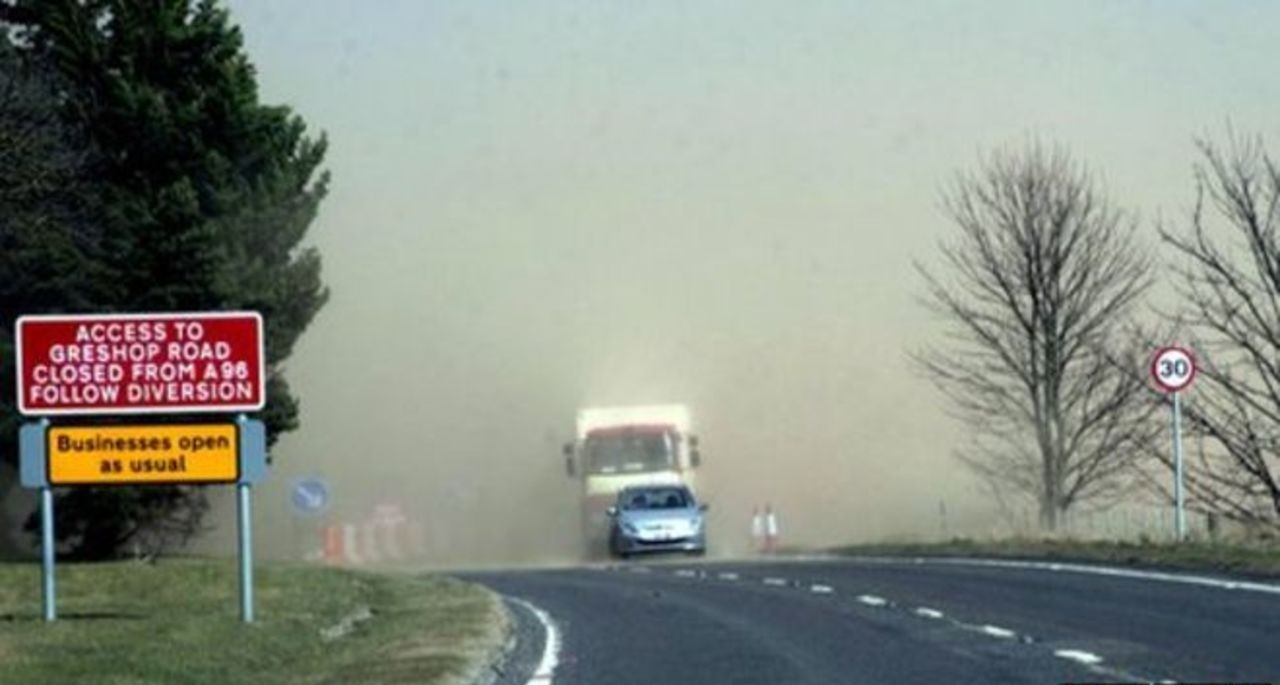car: (605, 484, 705, 557)
truck: (568, 405, 704, 550)
